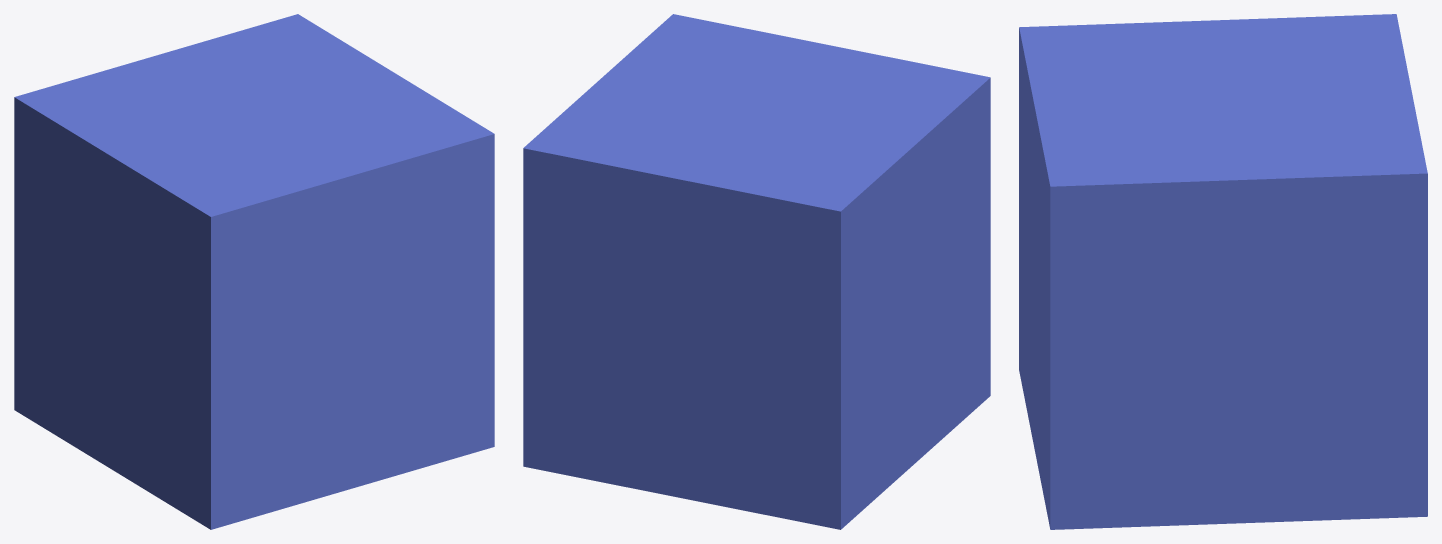
3 views of the same model, side by side, from view 1: azimuth 30°, elevation 25°; view 2: azimuth 150°, elevation 25°; view 3: azimuth 270°, elevation 25° (orthographic). The views are drawn at different scales.
Visible parts, largest first — view 1: Cube; view 2: Cube; view 3: Cube.
Boxes of the visible parts, x1,y1,x2,y2 form: Cube: (14,14,494,529); Cube: (523,14,990,529); Cube: (1019,14,1427,529).
Size of what is drawn, in the model's own units: 1.08 by 1 by 1.08.
